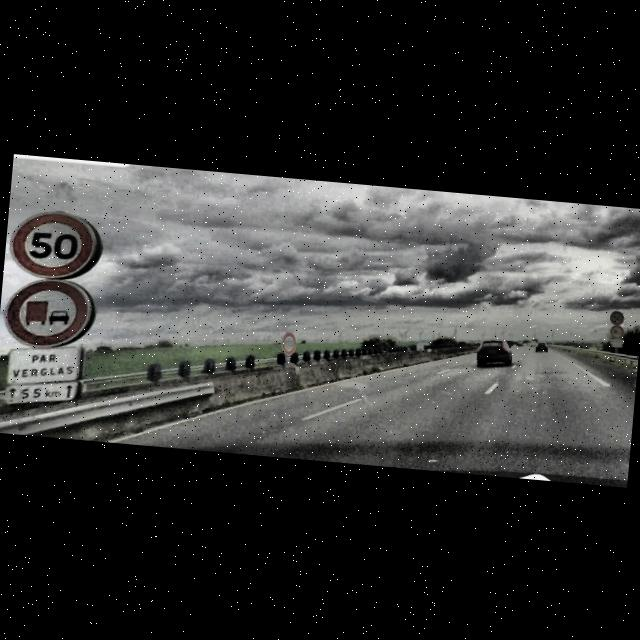speed_110: (280, 332, 296, 354)
speed_50: (8, 206, 99, 281), (610, 310, 623, 324)
